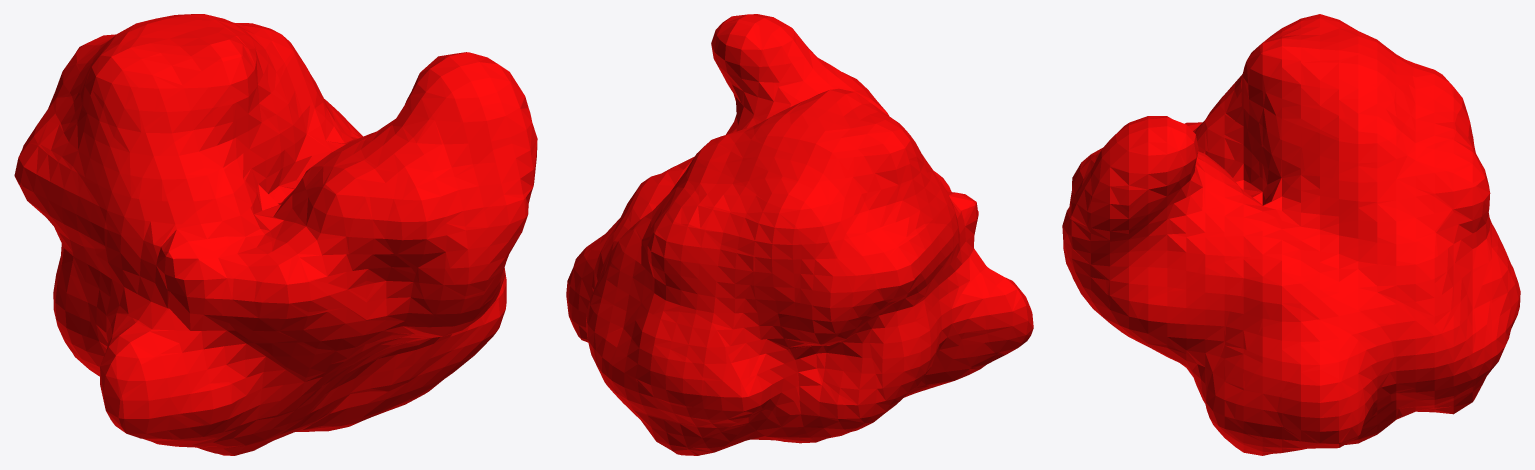
Rendered from rbsK_coarse.dae.
The picture shows the model from 3 angles, left to right: view 1: azimuth 30°, elevation 25°; view 2: azimuth 150°, elevation 25°; view 3: azimuth 270°, elevation 25°; orthographic projection. The views are drawn at different scales.
Visible parts, largest first — view 1: rbsK; view 2: rbsK; view 3: rbsK.
Part boxes in pixels (x1,y1,x2,y2): rbsK: [14, 14, 537, 455]; rbsK: [566, 14, 1033, 455]; rbsK: [1062, 14, 1520, 455].
Size of the model in its own units: 56.44 by 46.3 by 55.24.
